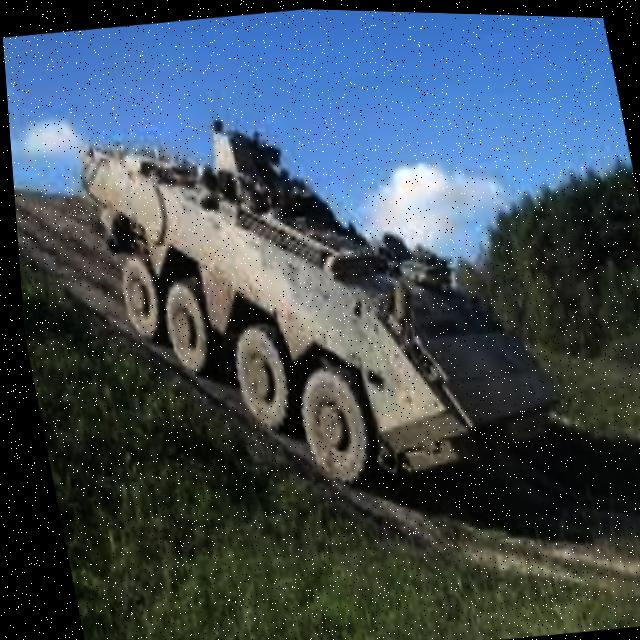MIL_APC: (49, 55, 602, 541)
